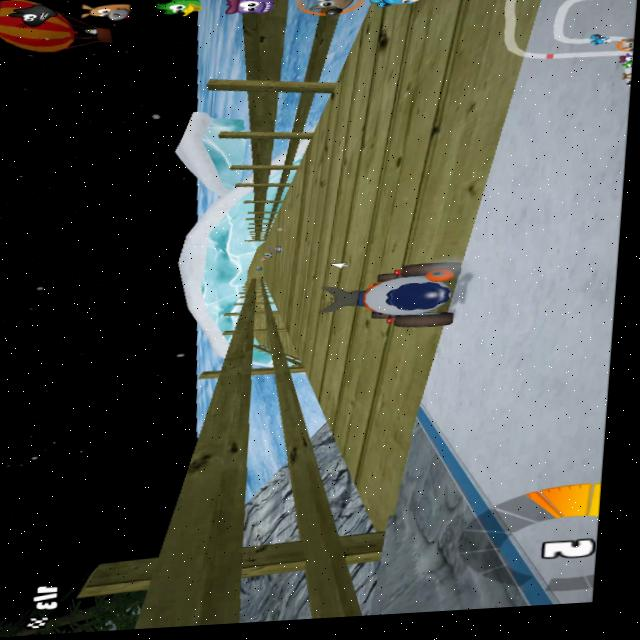enemy_kart: (269, 241, 288, 255), (245, 264, 264, 275)
player_kart: (324, 258, 470, 332)
